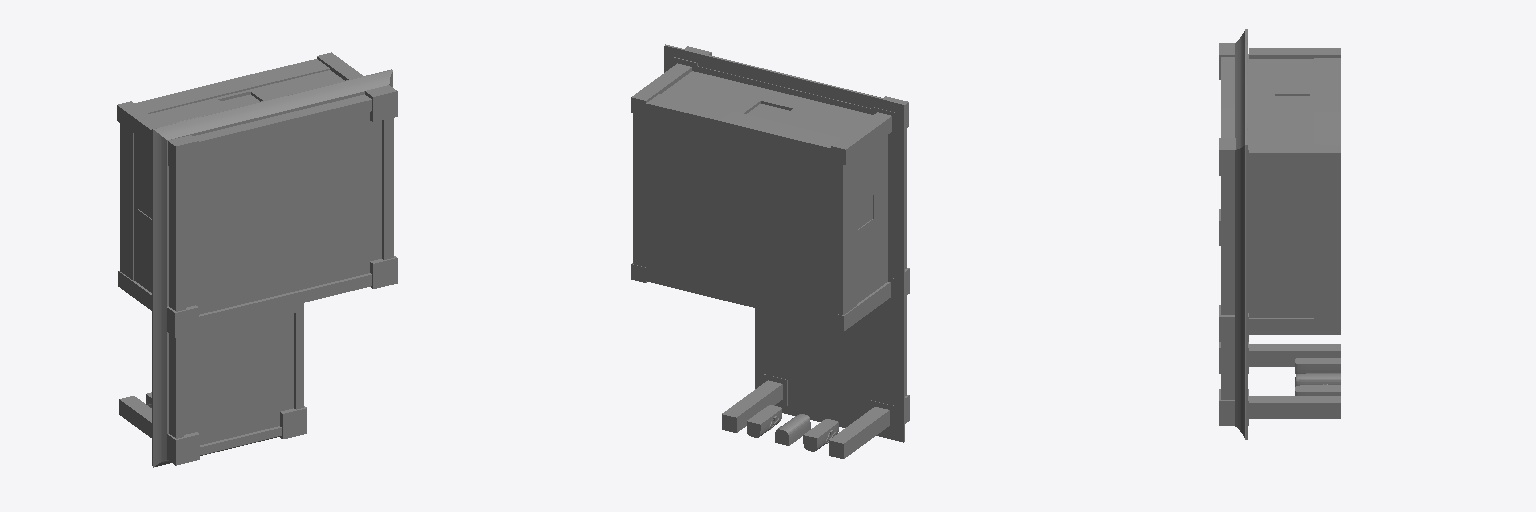
File: GasStation.obj
3 views of the same model, side by side, from view 1: azimuth 30°, elevation 25°; view 2: azimuth 150°, elevation 25°; view 3: azimuth 270°, elevation 25° (orthographic).
Visible parts, largest first — view 1: 10072_Gas_Station_V4; view 2: 10072_Gas_Station_V4; view 3: 10072_Gas_Station_V4.
Part boxes in pixels (x1,y1,x2,y2): 10072_Gas_Station_V4: (117, 52, 397, 467); 10072_Gas_Station_V4: (631, 44, 909, 458); 10072_Gas_Station_V4: (1219, 29, 1340, 439).
Size of the model in its own units: 870 by 1175 by 386.